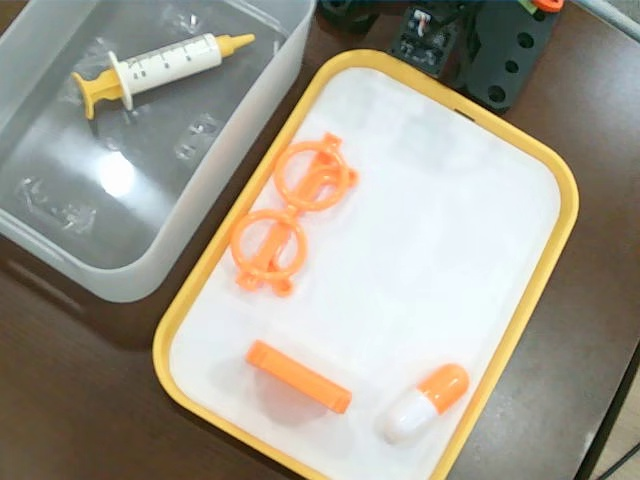pill: (383, 363, 471, 445)
syringe: (69, 31, 257, 119)
